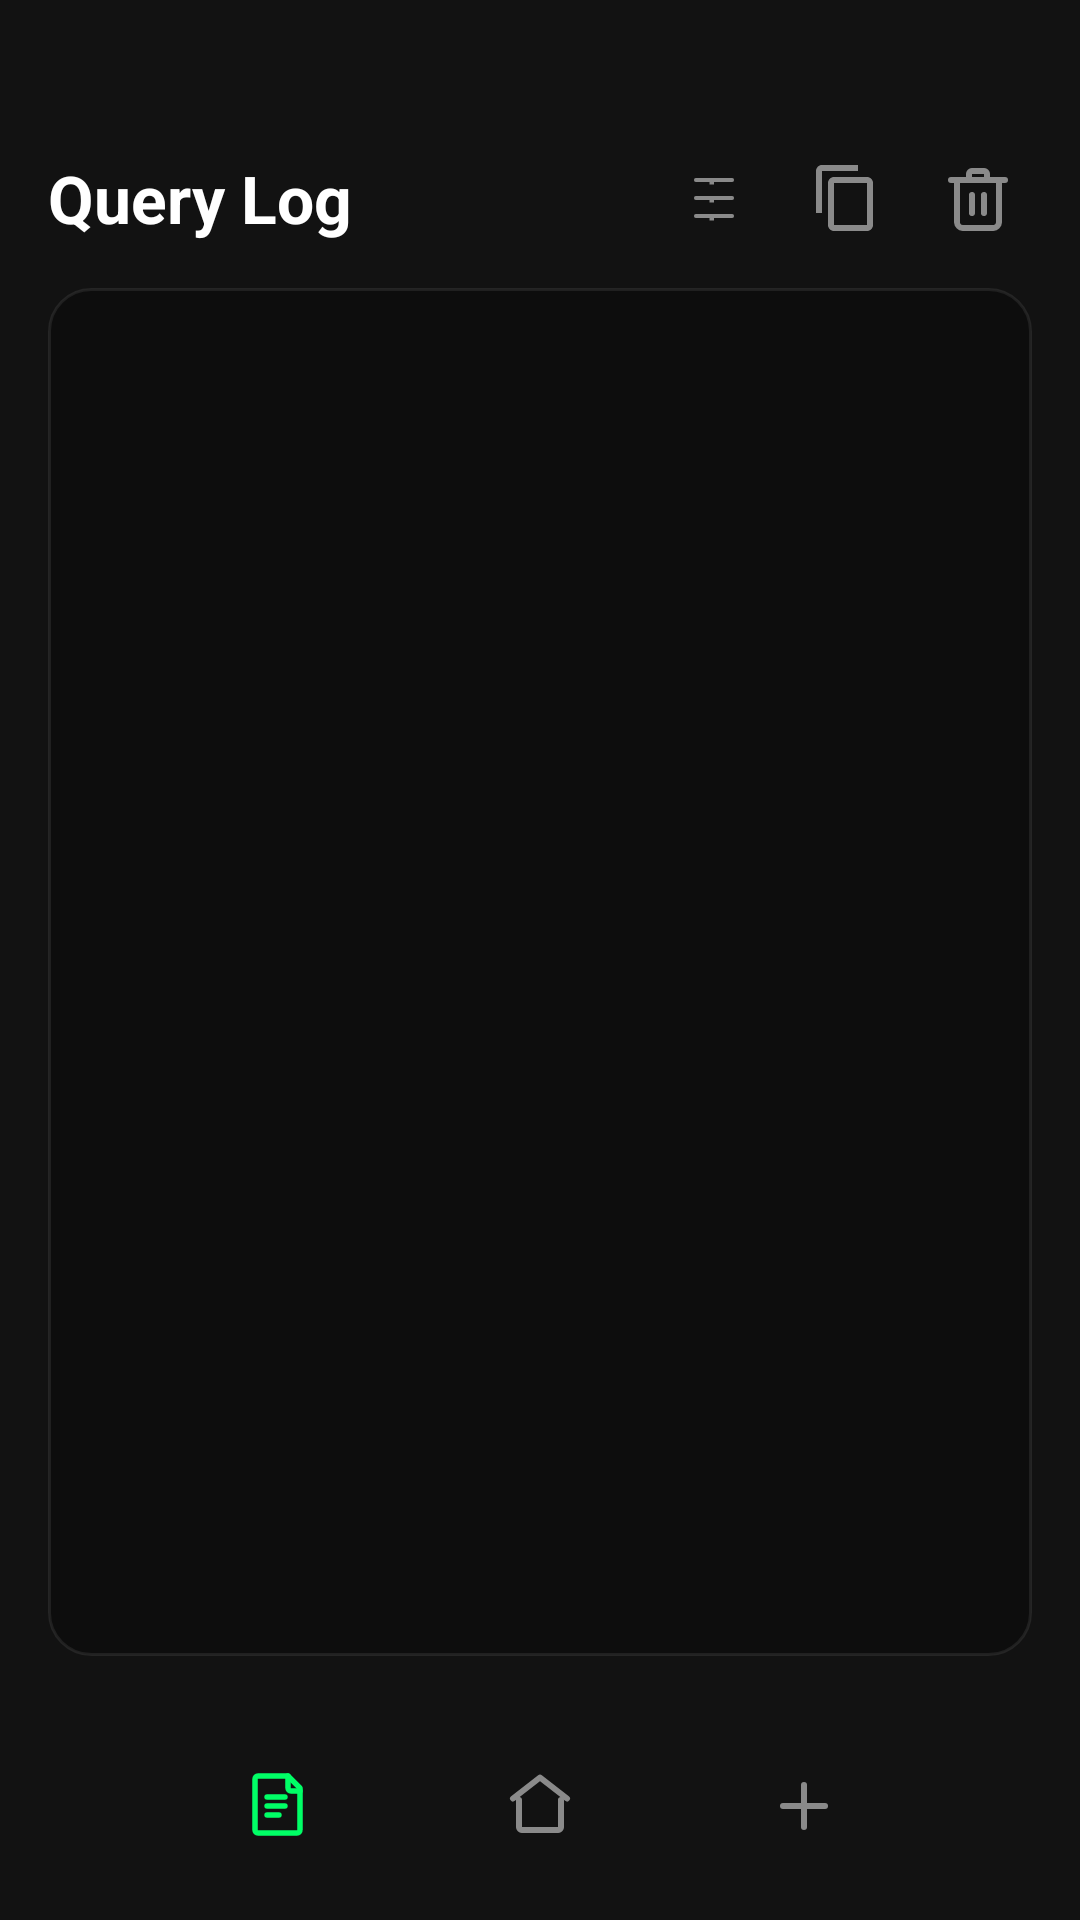

Locate icon controls on the screen. Image size 1080px×1920px, boxes as (x1=x1, y1=y1, x2=x2, y2=y2).
Add server: (x1=780, y1=1782, x2=828, y2=1830)
Clear log: (x1=948, y1=168, x2=1008, y2=231)
Copy log: (x1=816, y1=165, x2=873, y2=231)
Filter log: (x1=694, y1=178, x2=734, y2=221)
Home: (x1=510, y1=1774, x2=570, y2=1833)
Query log: (x1=252, y1=1773, x2=303, y2=1836)
